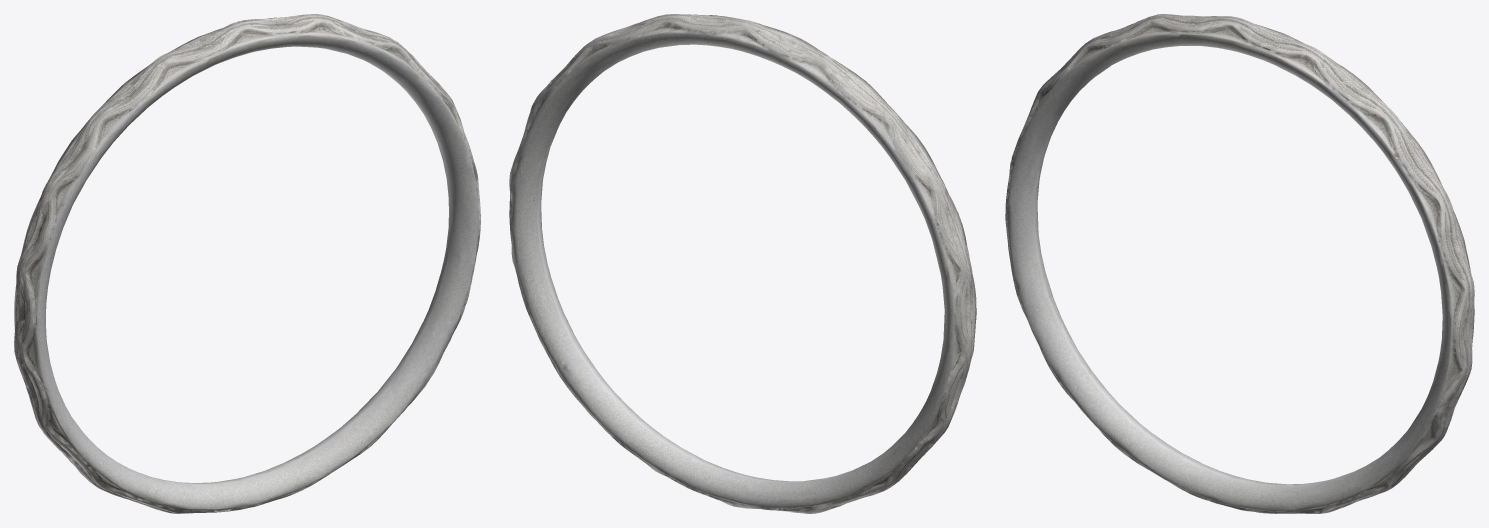
File: ring_silver_wave.glb
3 renders of one model, left to right at view 1: azimuth 30°, elevation 25°; view 2: azimuth 150°, elevation 25°; view 3: azimuth 330°, elevation 25°, orthographic.
Visible parts, largest first — view 1: Mesh_0; view 2: Mesh_0; view 3: Mesh_0.
Part boxes in pixels (box(x1,y1,x2,y2)): Mesh_0: box(14, 14, 480, 513); Mesh_0: box(509, 14, 976, 513); Mesh_0: box(1005, 14, 1474, 513).
Size of the model in its own units: 2.11 by 2.13 by 0.1639.
Materials: 1 (1 with a texture image).
